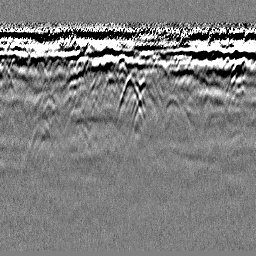cavity: (118, 74, 144, 115)
